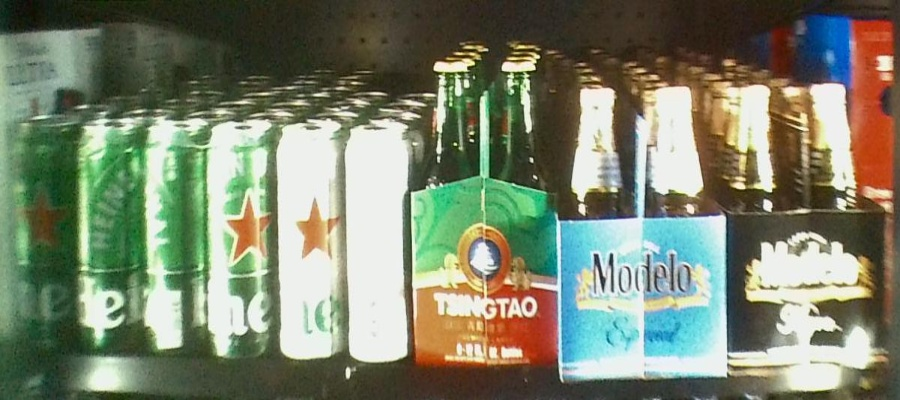bottle: (564, 84, 725, 385), (414, 60, 560, 366), (733, 86, 878, 374), (5, 120, 144, 351), (282, 124, 410, 362), (146, 121, 274, 356)
